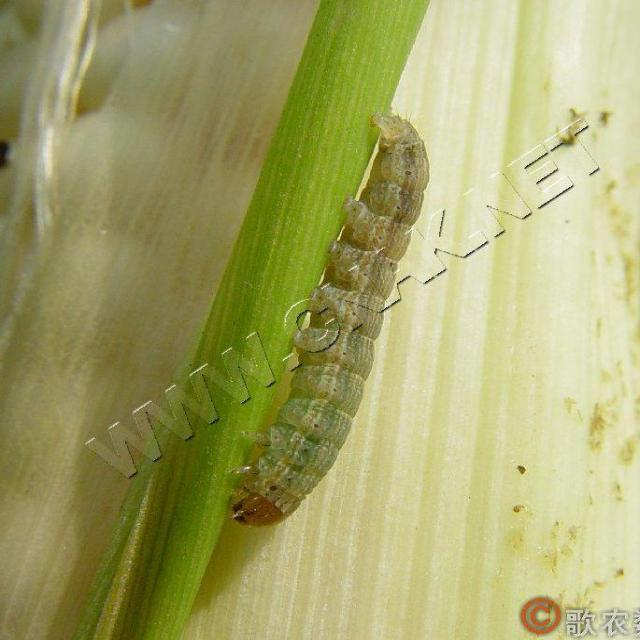armyworm: (217, 105, 440, 541)
